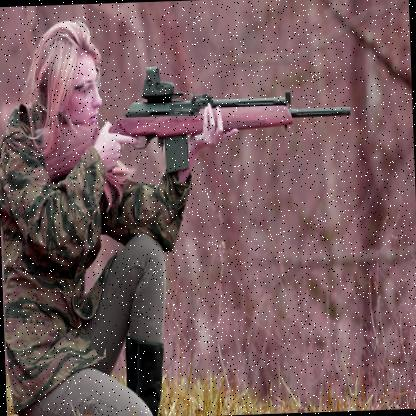rifle: (31, 59, 361, 195)
